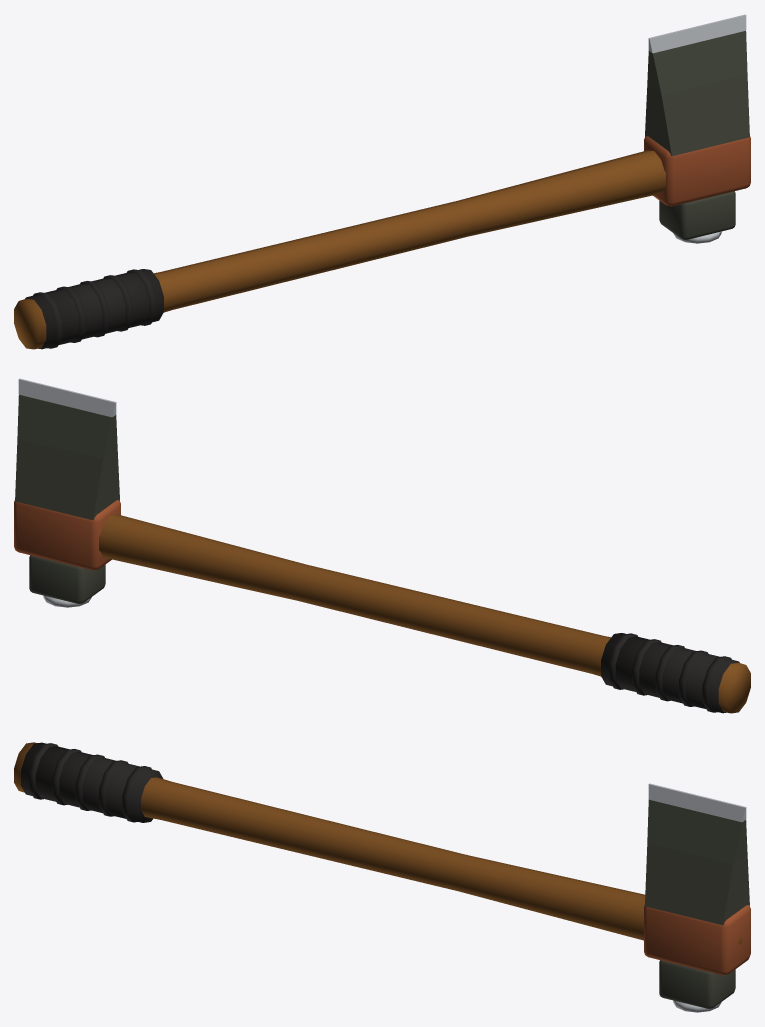
The model's file is item_splitting_maul.glb.
3 renders of one model, top to bottom at view 1: azimuth 30°, elevation 25°; view 2: azimuth 150°, elevation 25°; view 3: azimuth 330°, elevation 25°, orthographic.
Visible parts, largest first — view 1: handle, wedge, grip, eye, poll, edge; view 2: handle, wedge, grip, eye, poll, edge; view 3: handle, wedge, eye, grip, poll, edge, grip_turn_0, grip_turn_4, grip_turn_2, grip_turn_1, grip_turn_3.
Part boxes in pixels (x1,y1,x2,y2): handle: [14, 150, 665, 349]; wedge: [645, 31, 749, 156]; grip: [25, 269, 163, 349]; eye: [644, 136, 750, 206]; poll: [659, 191, 735, 239]; edge: [648, 14, 746, 53]; handle: [99, 514, 750, 713]; wedge: [15, 395, 119, 520]; grip: [601, 633, 739, 713]; eye: [14, 500, 120, 570]; poll: [29, 555, 105, 603]; edge: [18, 378, 116, 417]; handle: [14, 742, 742, 944]; wedge: [645, 799, 749, 925]; eye: [644, 904, 750, 975]; grip: [21, 742, 163, 822]; poll: [659, 960, 735, 1008]; edge: [648, 783, 746, 822]; grip_turn_0: [28, 743, 58, 799]; grip_turn_4: [122, 766, 151, 822]; grip_turn_2: [75, 754, 104, 810]; grip_turn_1: [52, 749, 81, 805]; grip_turn_3: [99, 760, 128, 816].
Bounding box in the file's own units: 0.922 × 0.253 × 0.0612.
